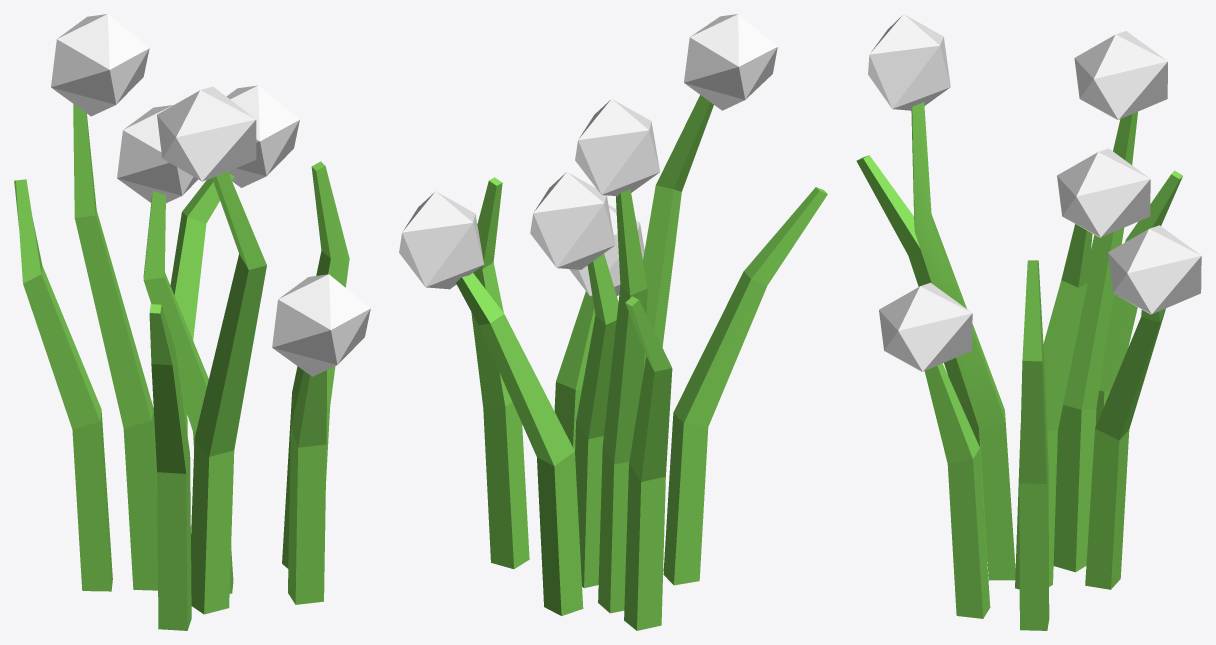
The model's file is FlowerWhite.fbx.
3 views of the same model, side by side, from view 1: azimuth 30°, elevation 25°; view 2: azimuth 150°, elevation 25°; view 3: azimuth 270°, elevation 25° (orthographic). The views are drawn at different scales.
Parts seen in each view (by area): view 1: Flower3; view 2: Flower3; view 3: Flower3.
Boxes of the visible parts, bbox=[...] form: Flower3: bbox=[14, 14, 370, 630]; Flower3: bbox=[399, 14, 827, 630]; Flower3: bbox=[856, 14, 1201, 630].
Size of the model in its own units: 0.254 by 0.462 by 0.2714.
